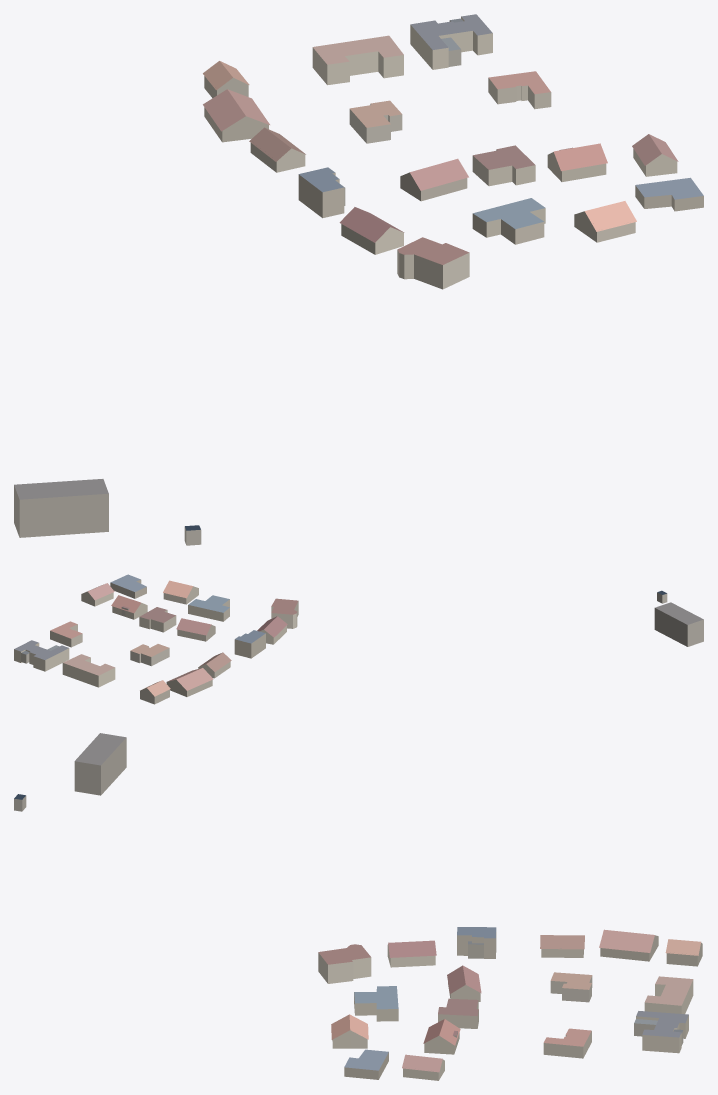
The picture shows the model from 3 angles, top to bottom: view 1: azimuth 30°, elevation 25°; view 2: azimuth 150°, elevation 25°; view 3: azimuth 270°, elevation 25°; orthographic projection. The views are drawn at different scales.
Parts seen in each view (by area): view 1: tuile; view 2: tuile; view 3: tuile.
Part boxes in pixels (box(x1,y1,x2,y2)): tuile: box(14, 14, 703, 545); tuile: box(14, 574, 703, 704); tuile: box(14, 733, 702, 1080).
Bounding box in the file's own units: 268 × 16.99 × 236.
